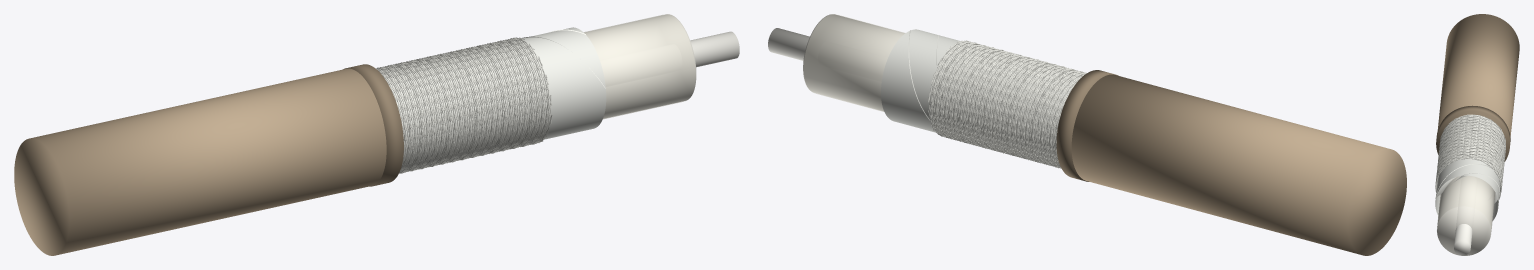
File: rf-multiflex141.glb
3 views of the same model, side by side, from view 1: azimuth 30°, elevation 25°; view 2: azimuth 150°, elevation 25°; view 3: azimuth 270°, elevation 25° (orthographic). The views are drawn at different scales.
Visible parts, largest first — view 1: matte black pvc jacket body, duobond foil sleeve, gas injected foam dielectric, smooth dielectric skin, jacket cut lip, solid center conductor continuous, braid left hand carrier 08, braid left hand carrier 09, braid left hand carrier 11, braid left hand carrier 06, braid left hand carrier 05, braid left hand carrier 12 (+26 smaller); view 2: matte black pvc jacket body, duobond foil sleeve, gas injected foam dielectric, smooth dielectric skin, jacket cut lip, solid center conductor continuous, braid left hand carrier 03, braid left hand carrier 02, braid left hand carrier 05, braid left hand carrier 06, braid left hand carrier 08, braid left hand carrier 09 (+26 smaller); view 3: matte black pvc jacket body, gas injected foam dielectric, smooth dielectric skin, duobond foil sleeve, jacket cut lip, solid center conductor continuous, braid left hand carrier 03, braid left hand carrier 06, braid left hand carrier 05, braid left hand carrier 09, braid left hand carrier 02, braid left hand carrier 12 (+27 smaller).
Part boxes in pixels (x1,y1,x2,y2): matte black pvc jacket body: (14,68,386,255); duobond foil sleeve: (384,27,606,166); gas injected foam dielectric: (584,14,696,118); smooth dielectric skin: (584,14,695,119); jacket cut lip: (343,64,403,186); solid center conductor continuous: (690,31,739,67); braid left hand carrier 08: (377,37,544,169); braid left hand carrier 09: (380,42,546,169); braid left hand carrier 11: (384,42,549,171); braid left hand carrier 06: (377,37,540,171); braid left hand carrier 05: (376,38,539,171); braid left hand carrier 12: (387,41,551,172); matte black pvc jacket body: (1071,74,1406,255); duobond foil sleeve: (881,29,1076,156); gas injected foam dielectric: (803,14,904,111); smooth dielectric skin: (804,14,905,111); jacket cut lip: (1056,70,1118,181); solid center conductor continuous: (768,28,809,60); braid left hand carrier 03: (930,42,1074,167); braid left hand carrier 02: (931,43,1073,168); braid left hand carrier 05: (927,42,1081,168); braid left hand carrier 06: (931,41,1083,167); braid left hand carrier 08: (946,40,1084,165); braid left hand carrier 09: (945,40,1086,164); matte black pvc jacket body: (1437,14,1519,137); gas injected foam dielectric: (1437,175,1495,255); smooth dielectric skin: (1437,176,1495,231); duobond foil sleeve: (1435,124,1500,220); jacket cut lip: (1436,105,1510,161); solid center conductor continuous: (1454,224,1472,255); braid left hand carrier 03: (1436,115,1505,199); braid left hand carrier 06: (1437,116,1505,184); braid left hand carrier 05: (1437,116,1505,185); braid left hand carrier 09: (1435,118,1505,182); braid left hand carrier 02: (1436,114,1505,183); braid left hand carrier 12: (1435,119,1505,189).
Bounding box in the file's own units: 6.52 × 1.01 × 1.15.
